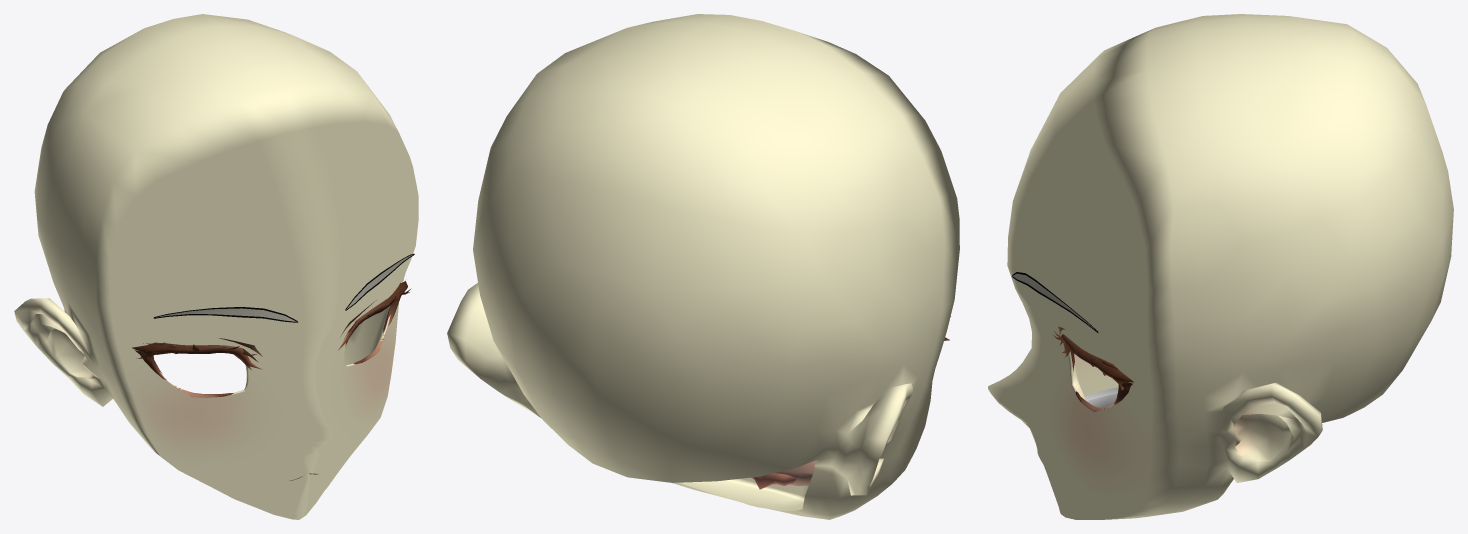
The model's file is 02_yuko_head.fbx.
The picture shows the model from 3 angles, left to right: view 1: azimuth 30°, elevation 25°; view 2: azimuth 150°, elevation 25°; view 3: azimuth 270°, elevation 25°; orthographic projection. The views are drawn at different scales.
Parts seen in each view (by area): view 1: head_Def; view 2: head_Def; view 3: head_Def.
Part boxes in pixels (bbox=[...]): head_Def: bbox=[14, 14, 418, 519]; head_Def: bbox=[447, 14, 959, 519]; head_Def: bbox=[988, 14, 1453, 519].
Bounding box in the file's own units: 17.01 × 19.53 × 17.24.
